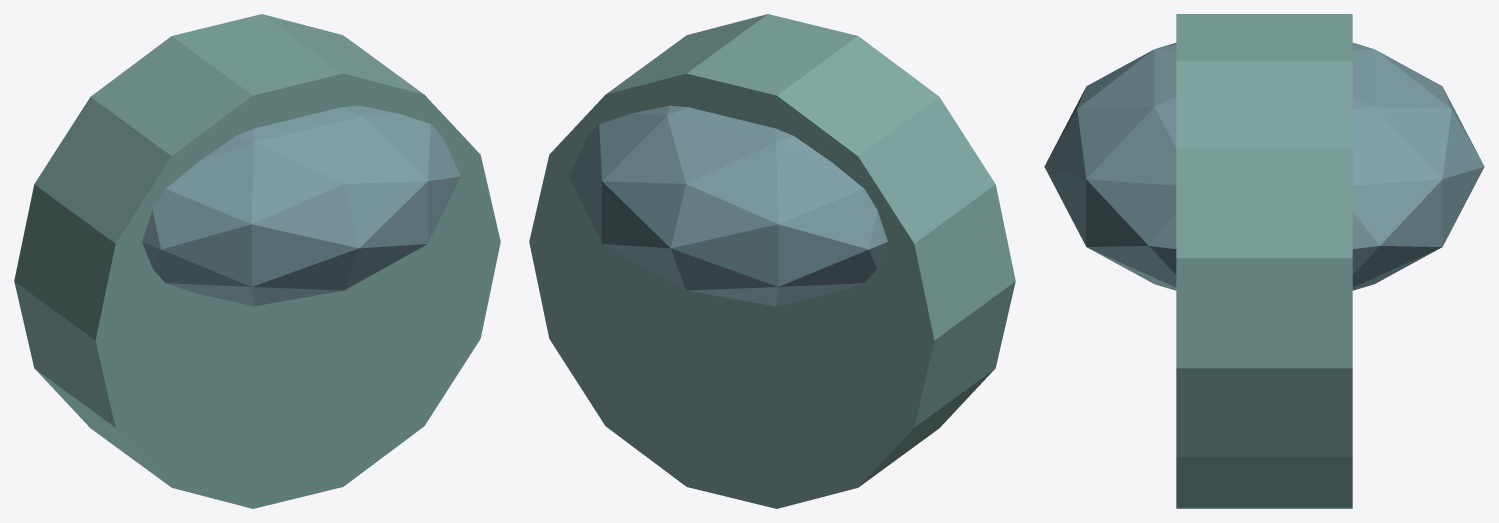
The model's file is wash_tub_copper.glb.
3 views of the same model, side by side, from view 1: azimuth 30°, elevation 25°; view 2: azimuth 150°, elevation 25°; view 3: azimuth 270°, elevation 25° (orthographic). The views are drawn at different scales.
Parts seen in each view (by area): view 1: part_0, part_1; view 2: part_0, part_1; view 3: part_0, part_1.
Boxes of the visible parts, x1,y1,x2,y2 form: part_0: [14, 14, 500, 508]; part_1: [142, 105, 460, 306]; part_0: [529, 14, 1015, 508]; part_1: [569, 105, 887, 306]; part_0: [1176, 14, 1352, 508]; part_1: [1044, 43, 1484, 290].
Size of the model in its own units: 0.92 by 0.8969 by 0.8.
